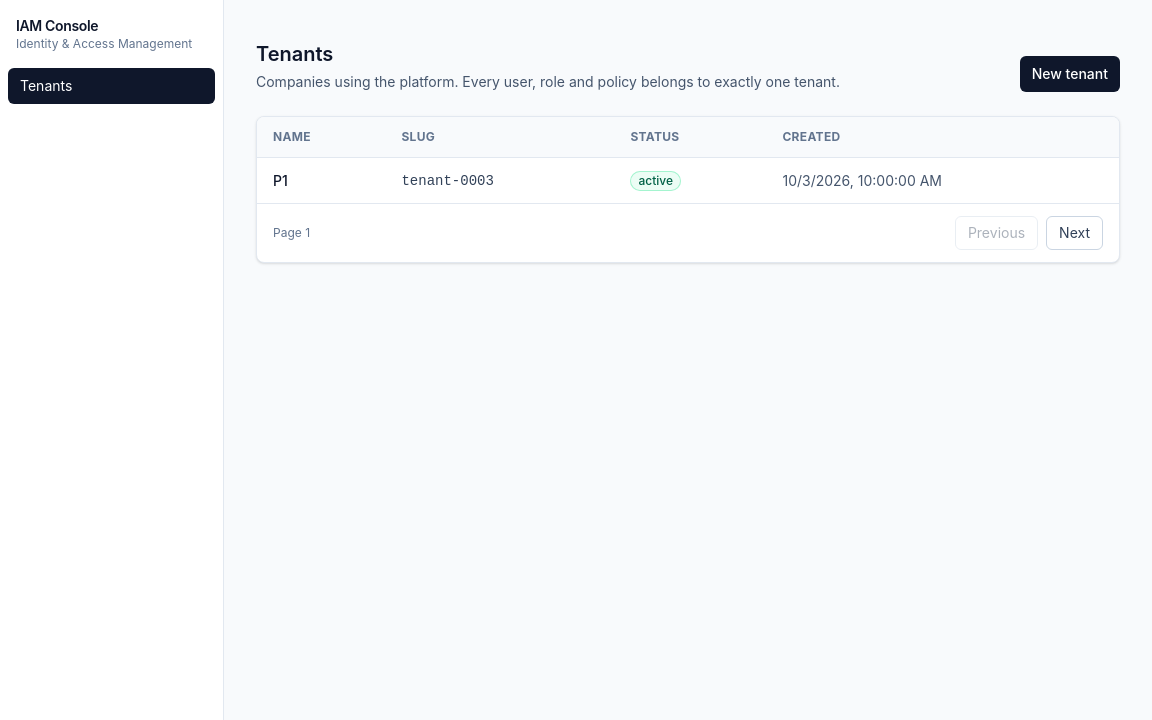
Test: TenantsPage › follows next_cursor forward and walks the cursor stack back
Expected: the link "P1" is shown, [273,172,288,188]
Step 1. Click the button "Next" → coordinates (1075, 233), box [1046,216,1103,250]
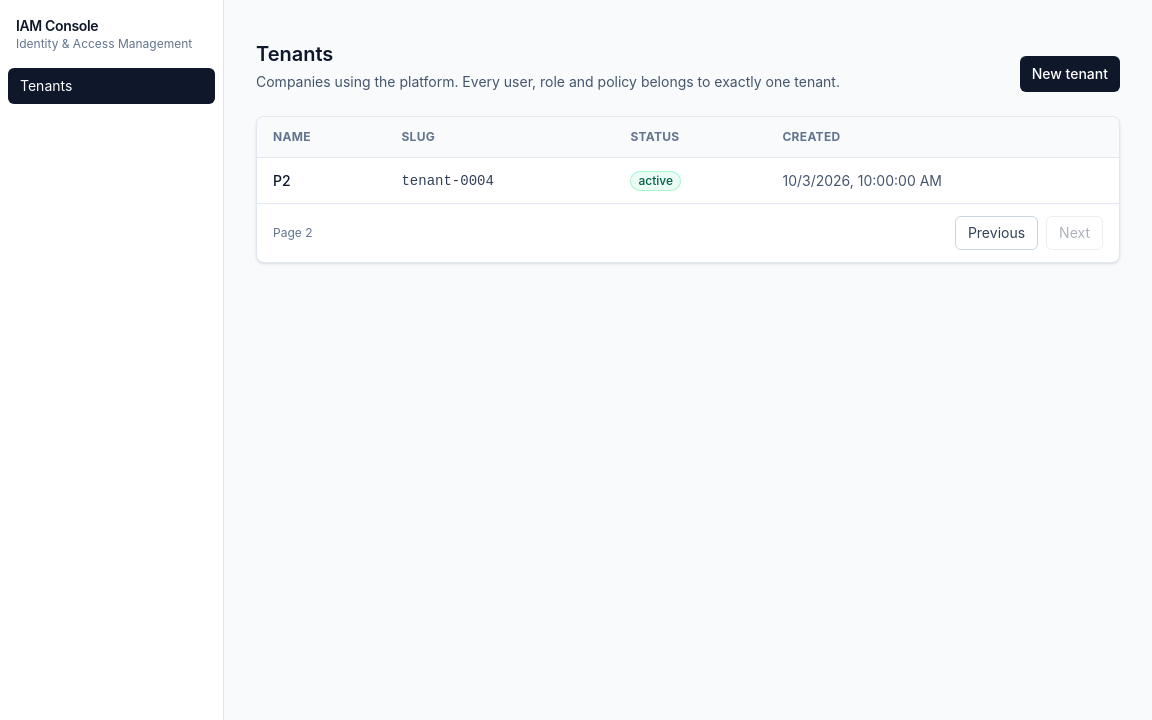
Result: the link "P2" is shown at [273,172,291,188]
Result: the text "Page 2" is shown at [273,225,312,241]
Result: the button "Next" is disabled at [1046,216,1103,250]
Step 2. Click the button "Previous" → coordinates (996, 233), box [955,216,1038,250]
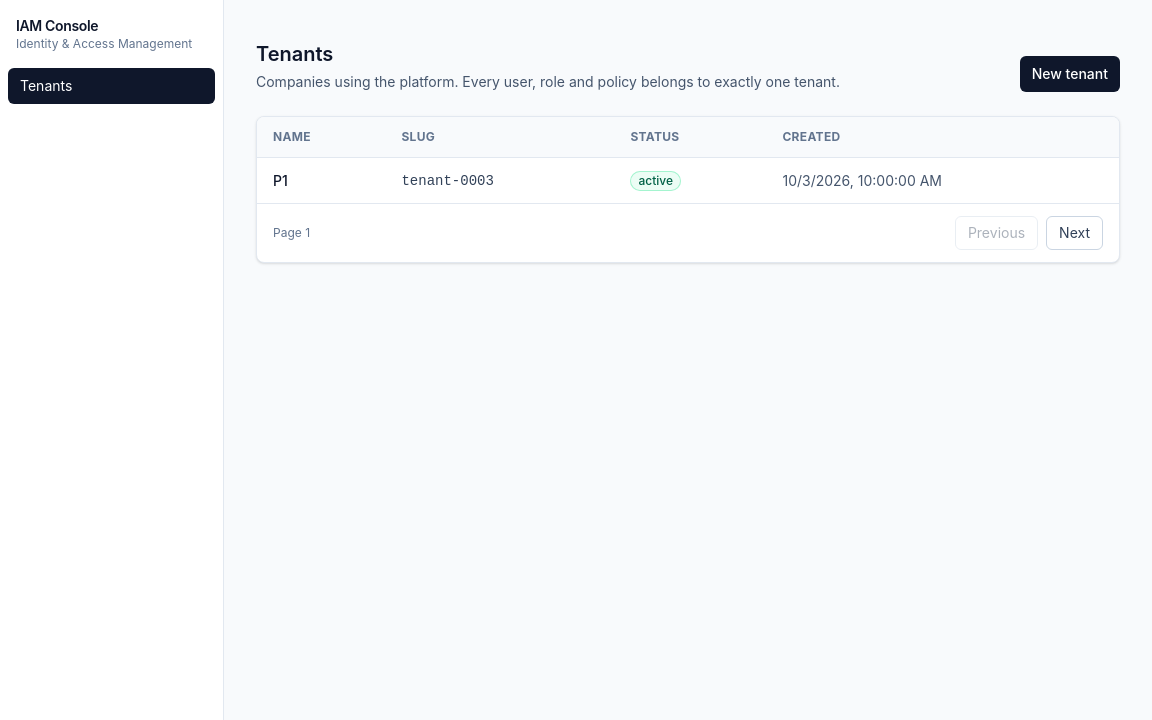
Result: the link "P1" is shown at [273,172,288,188]
